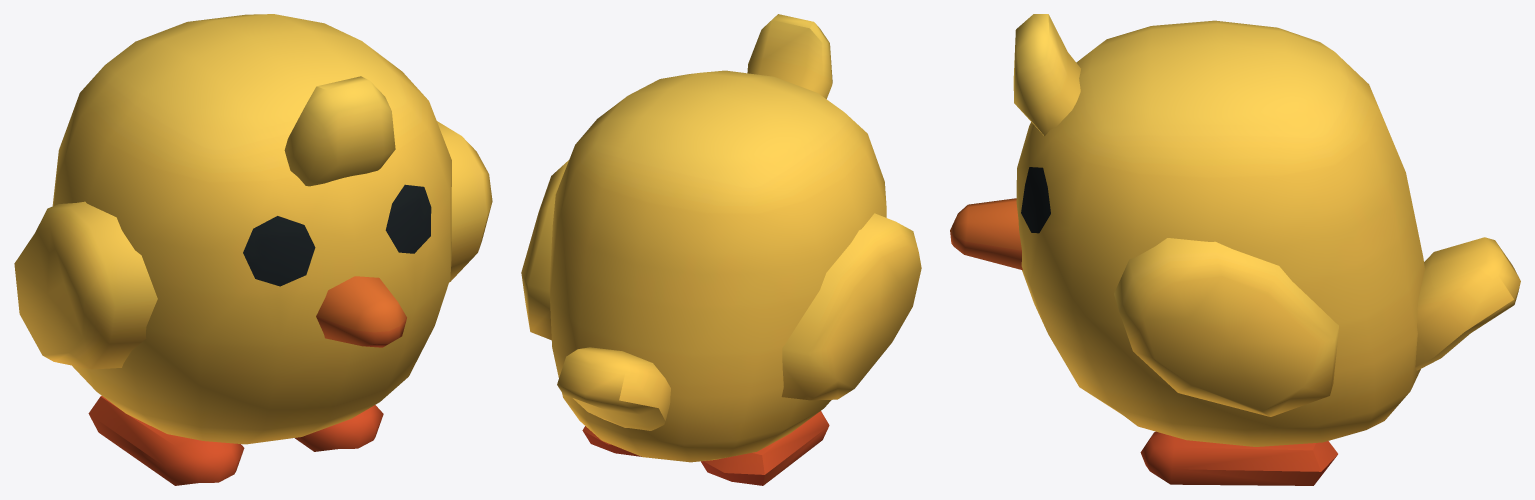
Rendered from prop_park_bird.glb.
3 renders of one model, left to right at view 1: azimuth 30°, elevation 25°; view 2: azimuth 150°, elevation 25°; view 3: azimuth 270°, elevation 25°, orthographic. The views are drawn at different scales.
Visible parts, largest first — view 1: bird; view 2: bird; view 3: bird.
Part boxes in pixels (left/top/right/bottom): bird: left=14, top=14, right=492, bottom=485; bird: left=521, top=14, right=921, bottom=485; bird: left=950, top=14, right=1520, bottom=485.
Size of the model in its own units: 0.4422 by 0.4404 by 0.5501.
1 material, 1 textured.
